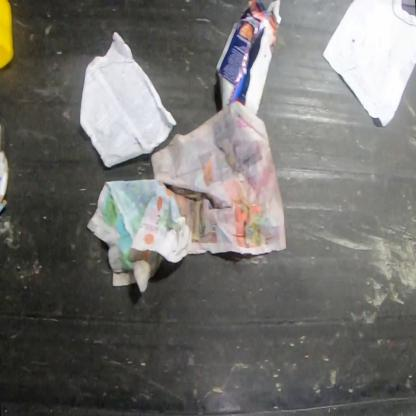cardboard: (0, 152, 9, 216)
rigid_plastic: (0, 0, 15, 70)
